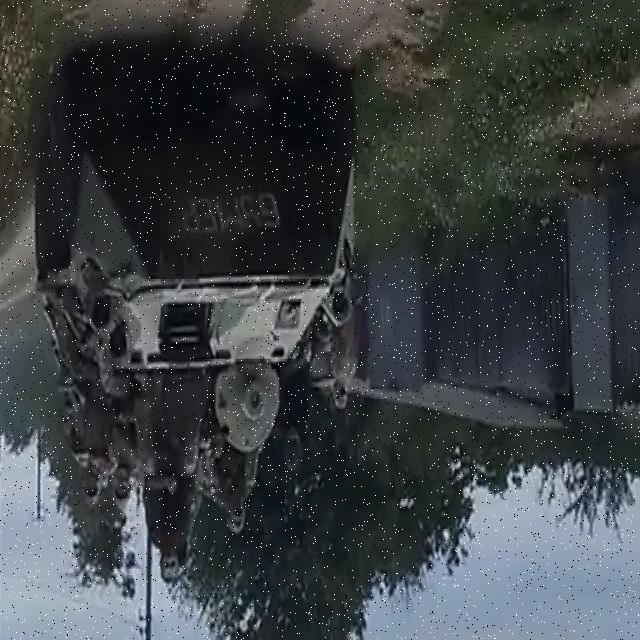APC-IFV: (16, 67, 368, 549)
